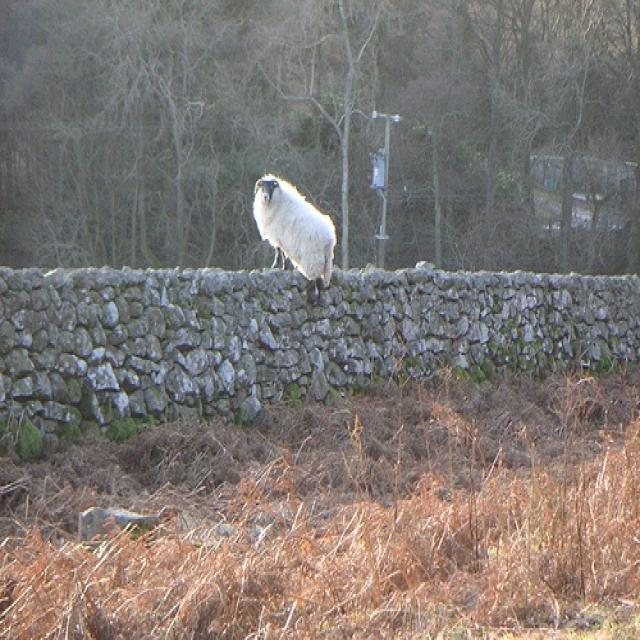sheep: (250, 169, 344, 299)
